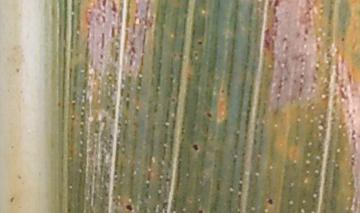tarspot: (126, 204, 133, 213), (192, 143, 199, 152), (206, 111, 213, 119), (267, 198, 274, 206), (196, 39, 204, 45), (197, 207, 204, 213), (172, 52, 178, 59), (340, 37, 346, 43), (193, 51, 198, 58), (171, 97, 176, 103), (221, 88, 226, 93)
